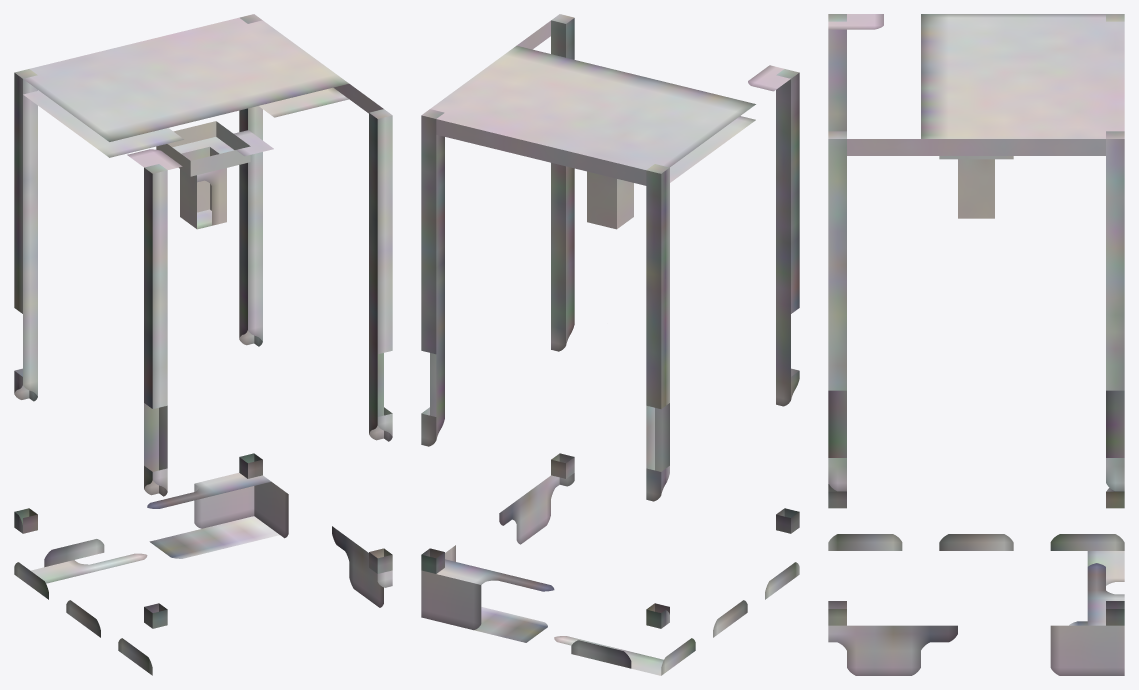
Rendered from symboller.obj.
3 views of the same model, side by side, from view 1: azimuth 30°, elevation 25°; view 2: azimuth 150°, elevation 25°; view 3: azimuth 270°, elevation 25° (orthographic). The views are drawn at different scales.
Visible parts, largest first — view 1: shape7, shape1, shape5, shape4, shape6, shape3, shape8, shape10; view 2: shape7, shape1, shape6, shape5, shape3, shape4, shape10; view 3: shape7, shape1, shape3, shape4, shape5, shape10, shape6.
Part boxes in pixels (x1=…): shape7: x1=23, y1=17, x2=383, y2=169; shape1: x1=14, y1=473, x2=392, y2=675; shape5: x1=144, y1=164, x2=167, y2=628; shape4: x1=369, y1=109, x2=392, y2=573; shape6: x1=14, y1=69, x2=37, y2=533; shape3: x1=239, y1=14, x2=262, y2=478; shape8: x1=156, y1=121, x2=250, y2=176; shape10: x1=180, y1=146, x2=226, y2=229; shape7: x1=430, y1=20, x2=790, y2=185; shape1: x1=421, y1=473, x2=799, y2=675; shape6: x1=646, y1=164, x2=669, y2=628; shape5: x1=776, y1=69, x2=799, y2=533; shape3: x1=421, y1=109, x2=444, y2=573; shape4: x1=551, y1=14, x2=574, y2=478; shape10: x1=587, y1=171, x2=633, y2=229; shape7: x1=828, y1=14, x2=1124, y2=155; shape1: x1=828, y1=534, x2=1124, y2=675; shape3: x1=1106, y1=131, x2=1124, y2=625; shape4: x1=828, y1=131, x2=846, y2=625; shape5: x1=828, y1=14, x2=846, y2=508; shape10: x1=958, y1=159, x2=994, y2=218; shape6: x1=1106, y1=14, x2=1124, y2=508.
Size of the model in its own units: 1 by 2 by 1.
